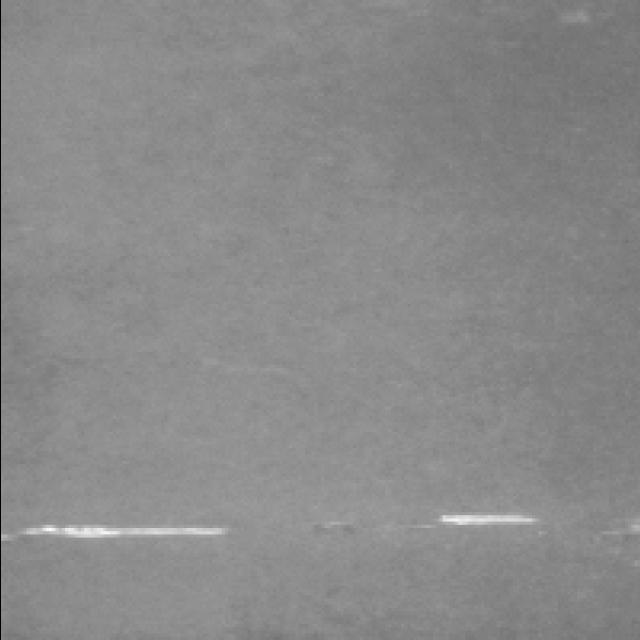scratches: (0, 513, 234, 548), (432, 504, 540, 536)
